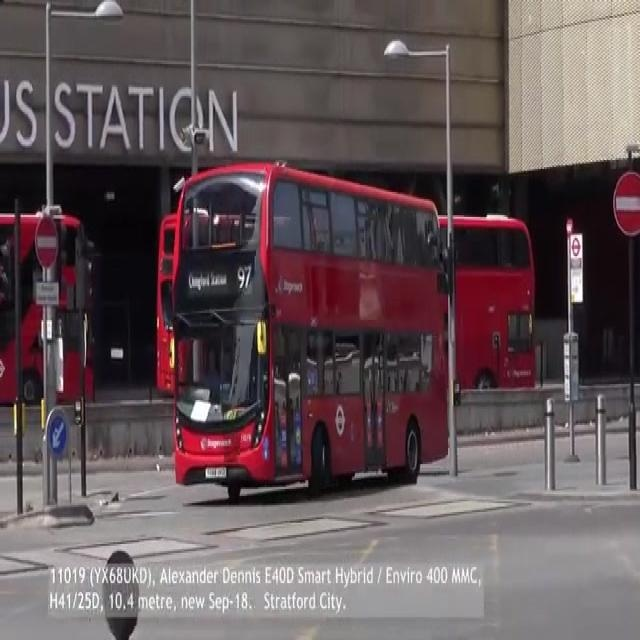Bus: (173, 167, 449, 498), (431, 208, 541, 395), (0, 212, 94, 404), (146, 198, 182, 396)
